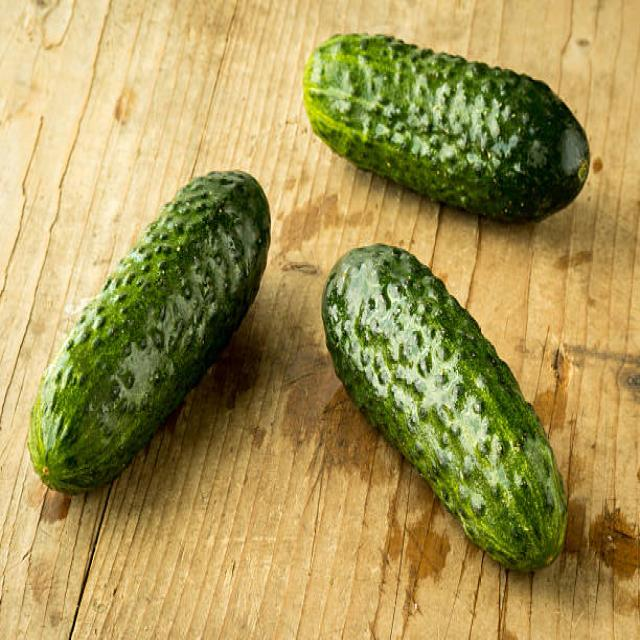cucumber: (322, 245, 568, 573), (27, 170, 275, 495), (302, 29, 592, 227)
